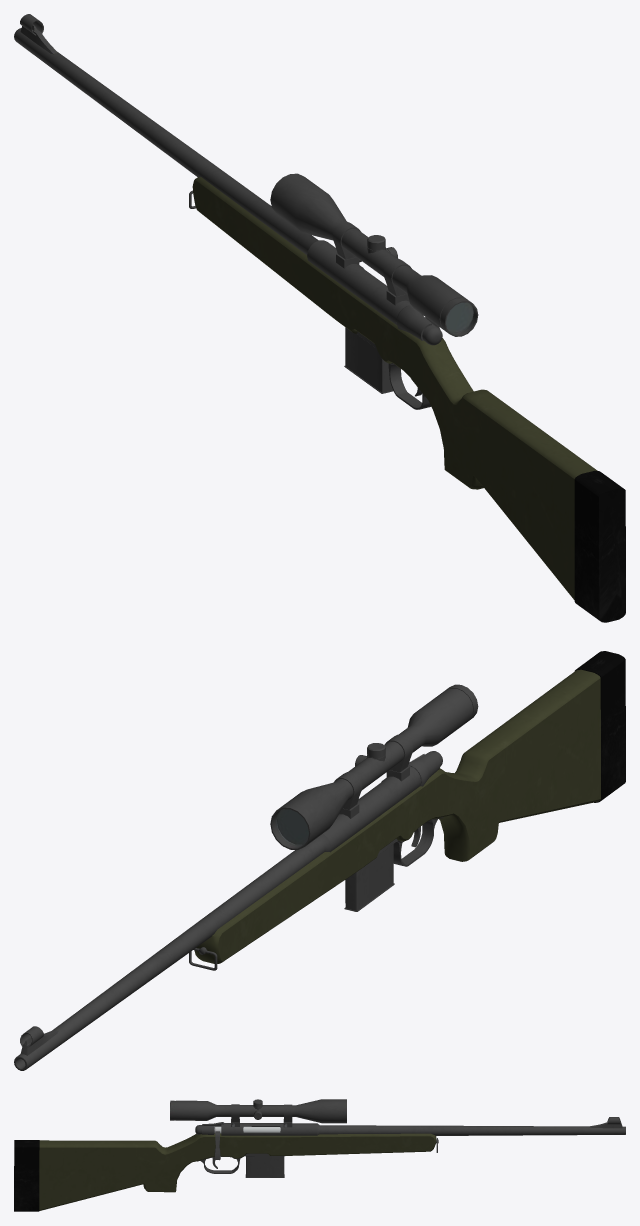
3 renders of one model, top to bottom at view 1: azimuth 30°, elevation 25°; view 2: azimuth 150°, elevation 25°; view 3: azimuth 270°, elevation 25°, orthographic. The views are drawn at different scales.
Visible parts, largest first — view 1: Stock, Barrel, Scope, Magazine; view 2: Stock, Barrel, Scope, Magazine, IronSight; view 3: Stock, Barrel, Scope, Magazine, Bolt, IronSight.
Part boxes in pixels (box(x1,y1,x2,y2)): Stock: box(192, 177, 625, 622); Barrel: box(14, 28, 440, 409); Scope: box(270, 173, 478, 336); Magazine: box(344, 327, 393, 393); Stock: box(194, 651, 625, 963); Barrel: box(14, 752, 443, 1070); Scope: box(270, 684, 478, 849); Magazine: box(344, 844, 394, 911); IronSight: box(20, 1026, 58, 1055); Stock: box(14, 1133, 436, 1211); Barrel: box(197, 1122, 625, 1173); Scope: box(170, 1099, 346, 1127); Magazine: box(245, 1156, 284, 1177); Bolt: box(195, 1125, 280, 1160); IronSight: box(589, 1117, 622, 1128).
Size of the model in its own units: 0.0568 by 0.2256 by 1.14.
Materials: 1 (1 with a texture image).
